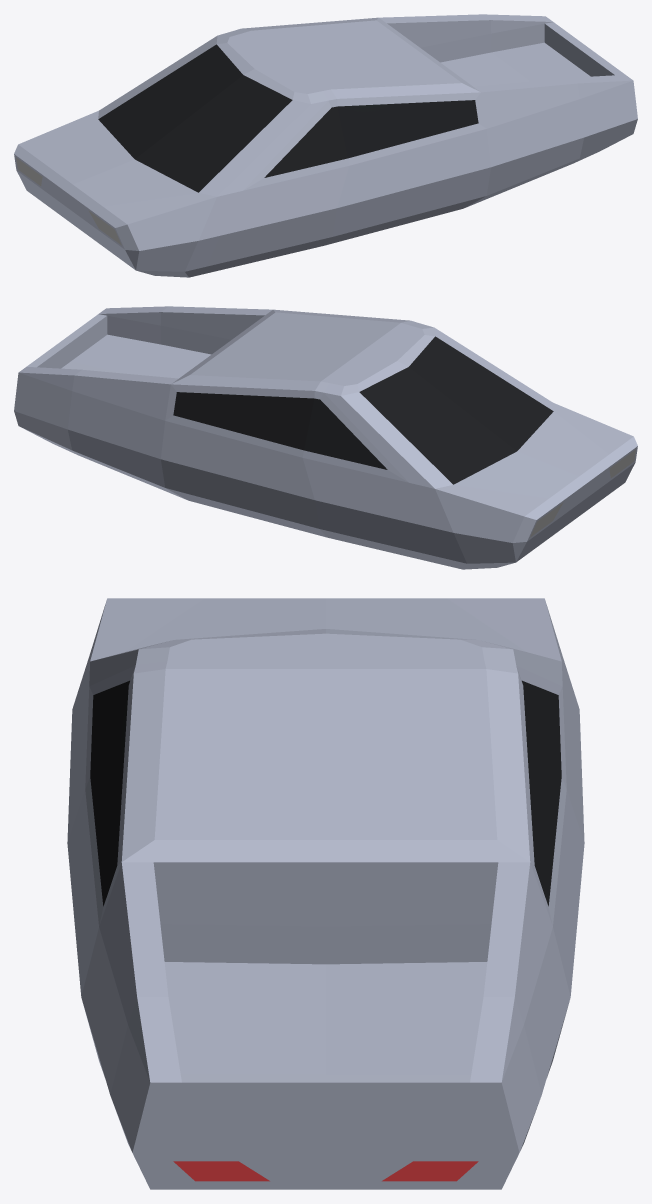
File: Car-9.fbx
3 views of the same model, one above another, from view 1: azimuth 30°, elevation 25°; view 2: azimuth 150°, elevation 25°; view 3: azimuth 270°, elevation 25° (orthographic). The views are drawn at different scales.
Parts seen in each view (by area): view 1: Car-9; view 2: Car-9; view 3: Car-9.
Part boxes in pixels (<box>): Car-9: <box>14,14,637,277</box>; Car-9: <box>14,306,637,569</box>; Car-9: <box>67,598,584,1189</box>.
Bounding box in the file's own units: 396 × 101 × 169.
